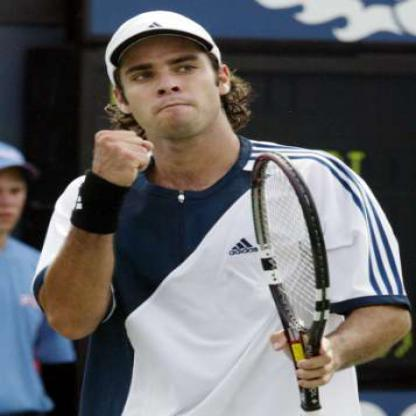face: (116, 13, 221, 141), (1, 154, 30, 232)
